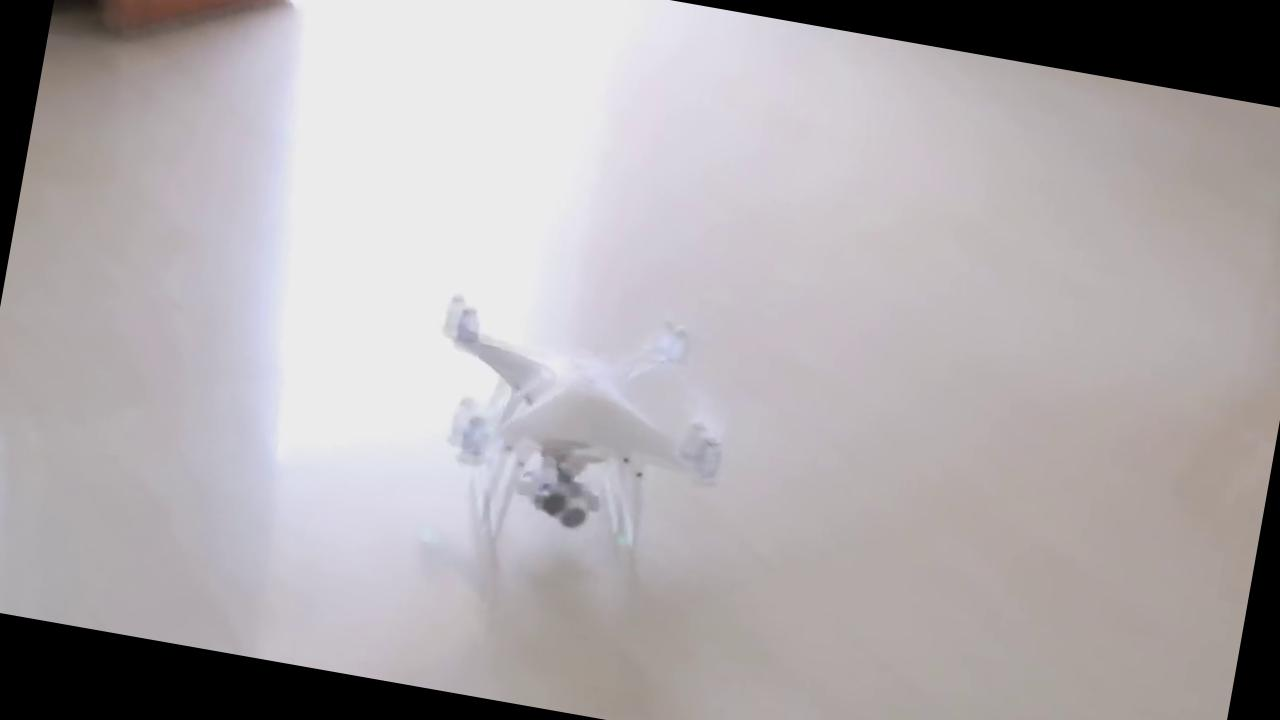drone: (402, 262, 766, 518)
